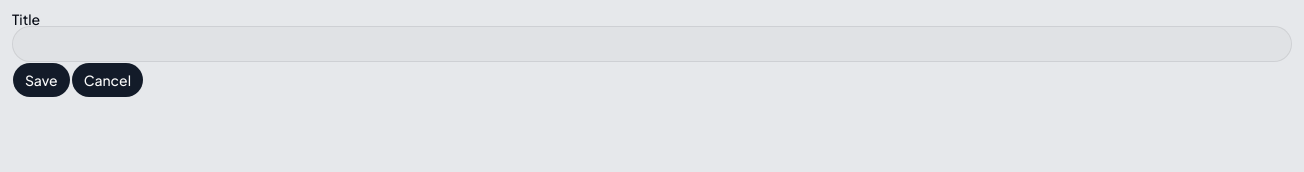
it: resets a saved note draft and unlocks the next submission without closing its sheet
Later steps or results of the test are not shown.
In the field labelled "Title": point(652, 44) [12,26,1292,62], type "First note"
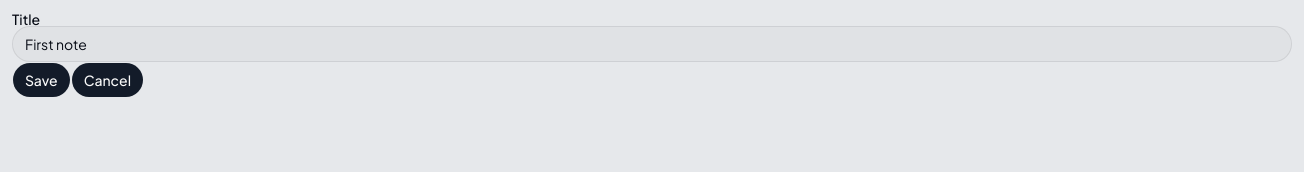
Submit the form, box [12,12,1292,98]
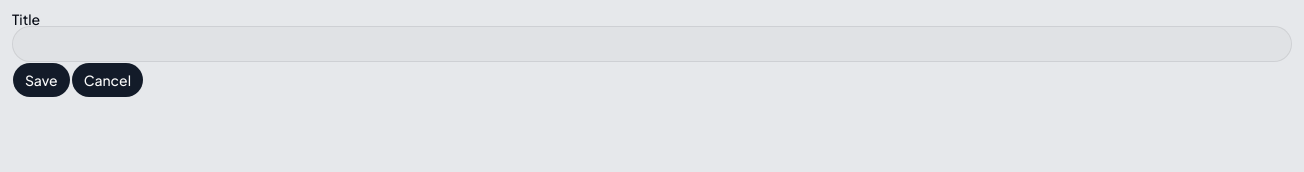
Expected: the field labelled "Title" is empty, [12,26,1292,62]
